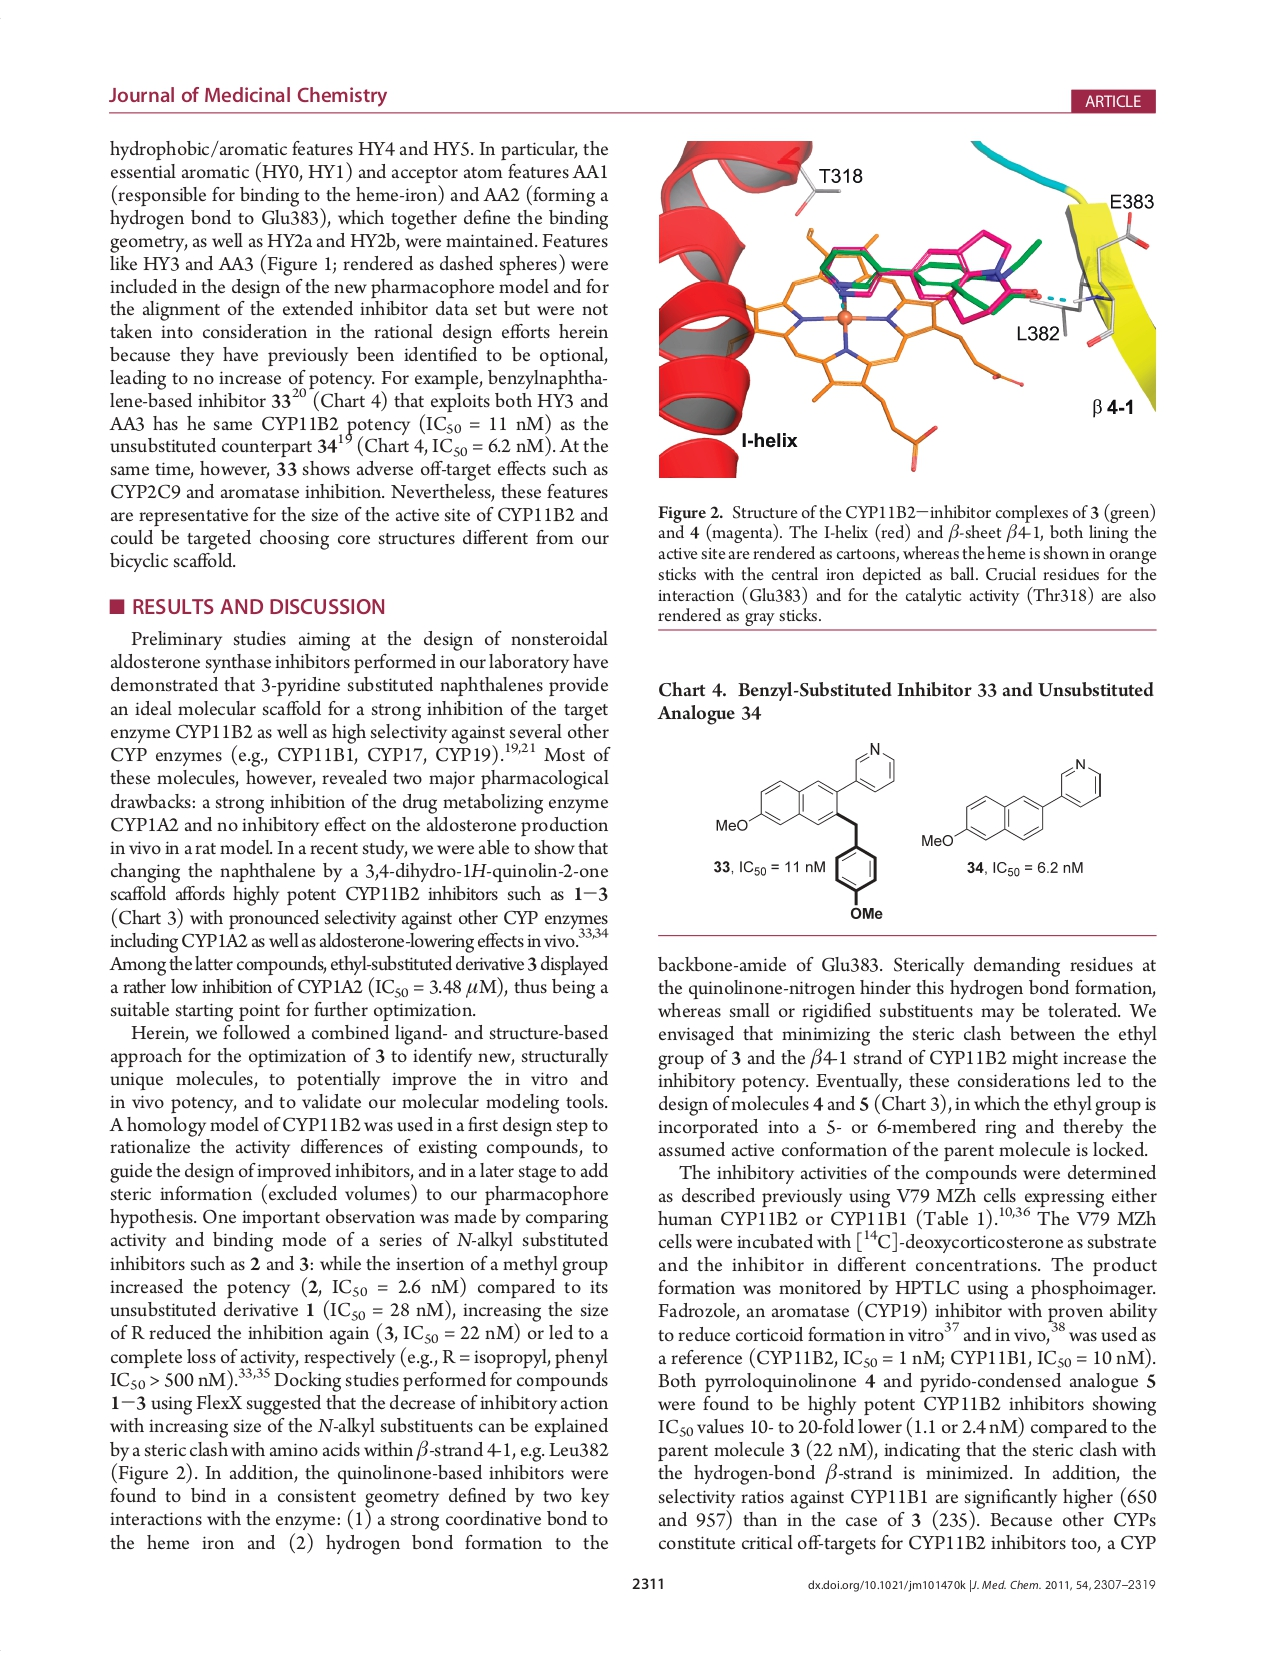exist_molecular: (713, 738, 898, 922), (918, 757, 1105, 848)
